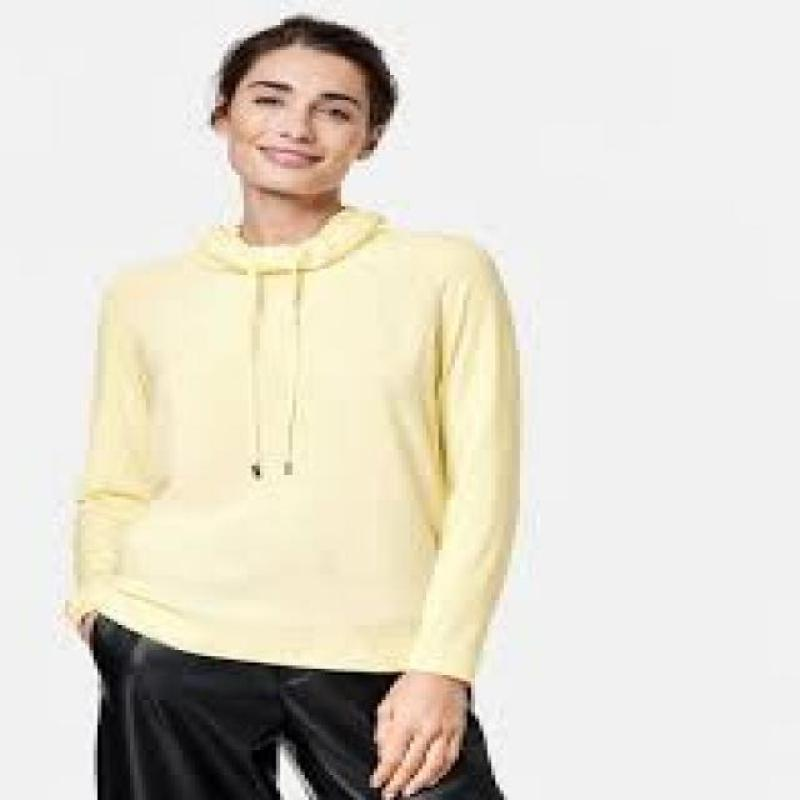sweater: (68, 209, 530, 685)
trousers: (87, 611, 504, 800)
